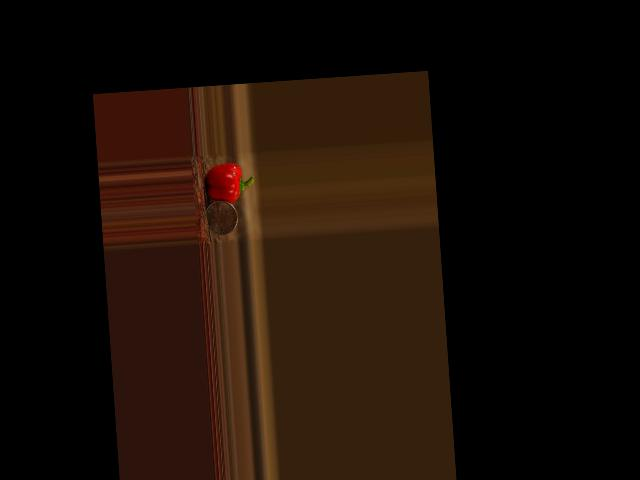bell_pepper: (202, 161, 255, 203)
